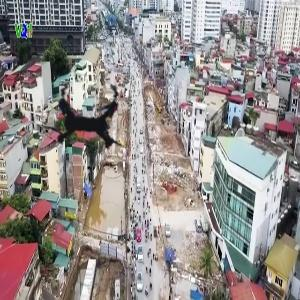drone: (10, 48, 159, 197)
